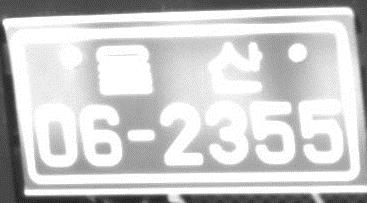-: (125, 126, 157, 146)
0: (32, 102, 80, 170)
2: (159, 99, 205, 169)
3: (203, 97, 250, 167)
5: (296, 98, 346, 167), (249, 98, 296, 167)
6: (78, 103, 124, 169)
울산_D: (93, 39, 265, 99)
